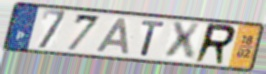7: (66, 13, 102, 52), (38, 7, 68, 52)
A: (93, 17, 130, 56)
R: (192, 22, 239, 67)
T: (139, 19, 167, 58)
X: (163, 21, 202, 62)
